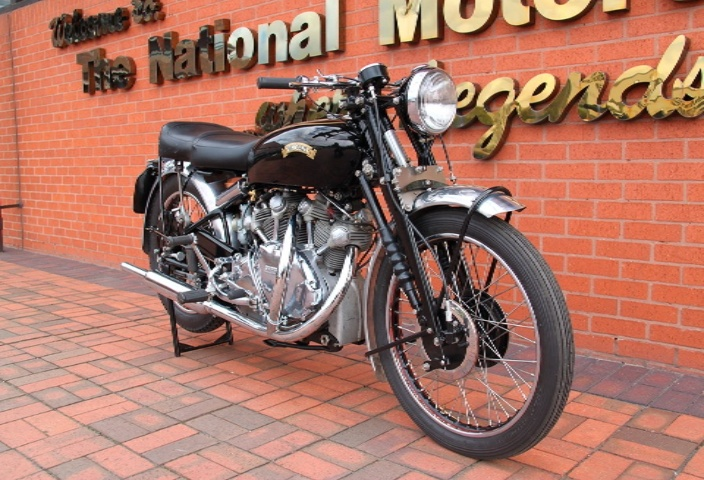motorcycle: (89, 36, 620, 469)
